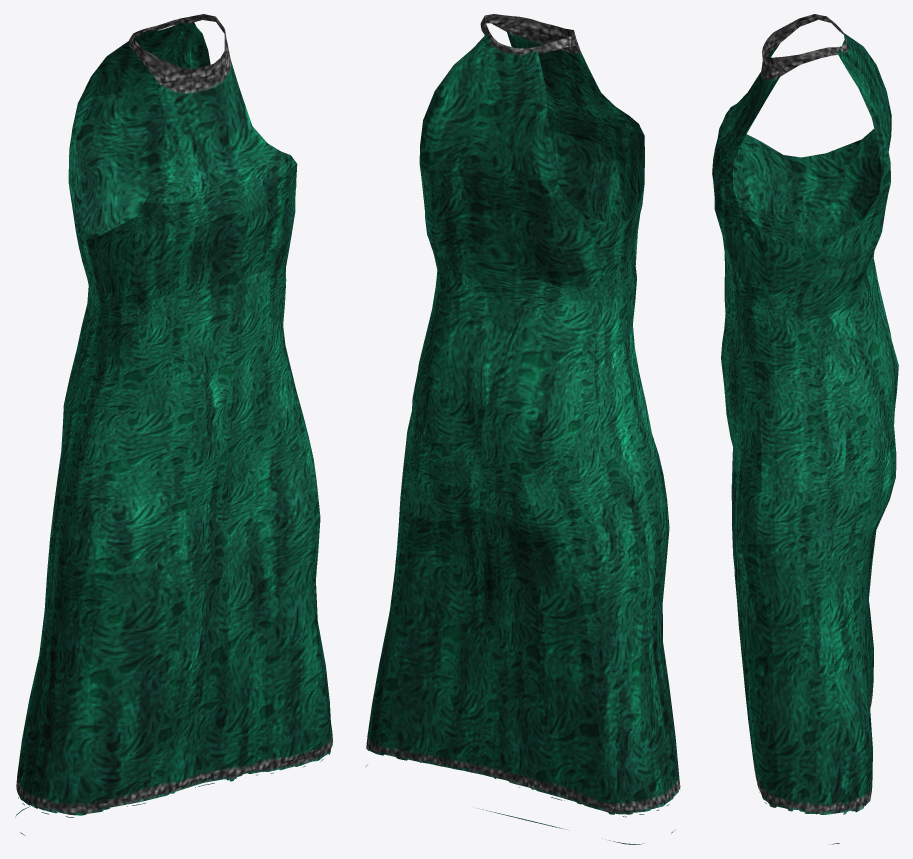
File: mhw_elvs_simple_fashion_dress_2.glb
3 renders of one model, left to right at view 1: azimuth 30°, elevation 25°; view 2: azimuth 150°, elevation 25°; view 3: azimuth 270°, elevation 25°, orthographic. The views are drawn at different scales.
Visible parts, largest first — view 1: mhw_elvs_simple_fashion_dress_2; view 2: mhw_elvs_simple_fashion_dress_2; view 3: mhw_elvs_simple_fashion_dress_2.
Boxes of the visible parts, <box> form: mhw_elvs_simple_fashion_dress_2: <box>15,14,332,835</box>; mhw_elvs_simple_fashion_dress_2: <box>366,14,680,844</box>; mhw_elvs_simple_fashion_dress_2: <box>712,14,898,844</box>.
Bounding box in the file's own units: 0.5296 × 1.29 × 0.2946.
1 material, 1 textured.
